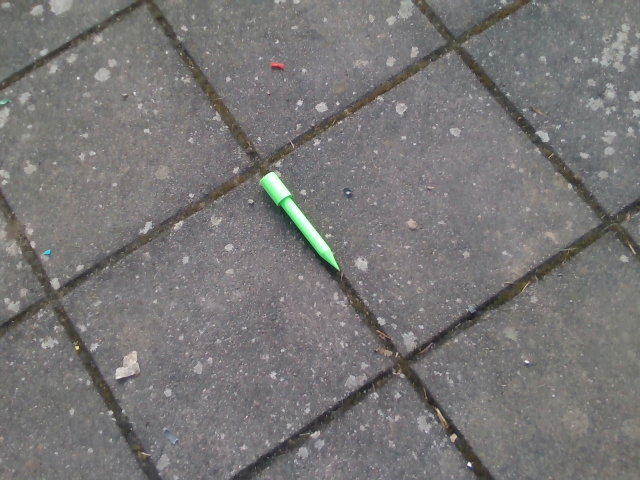Probe: (255, 166, 346, 276)
